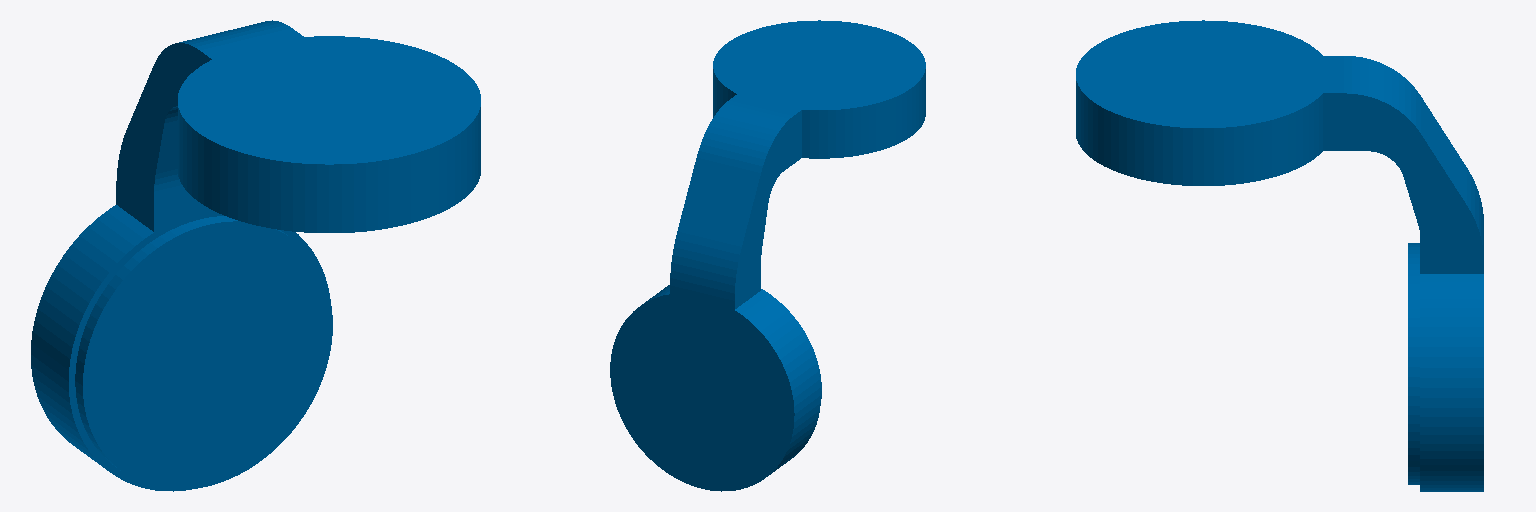
URDF robot description (FAST_ASSEMBLY):
<?xml version='1.0' encoding='utf-8'?>
<robot name="FAST_ASSEMBLY">
    <link name="GIMBAL_RAPIDO-v15_CAMERA_ASSEMBLY">
        <inertial>
            <origin xyz="-0.01 0.0032756026727633627 1.8077881414058085e-11" rpy="0.0 0.0 0.0" />
            <mass value="0.004718154701058241" />
            <inertia ixx="3.0879515170826206e-07" iyy="7.336772213625277e-07" izz="8.37855837638672e-07" ixy="9.559887501325002e-23" iyz="-6.161995284685584e-16" ixz="-9.414691255548289e-23" />
        </inertial>
        <visual name="GIMBAL_RAPIDO-v15_CAMERA_ASSEMBLY_visual">
            <origin xyz="0.0 0.0 0.0" rpy="0.0 0.0 0.0" />
            <geometry>
                <mesh filename="meshes/GIMBAL_RAPIDO-v15_CAMERA_ASSEMBLY.stl" scale="0.001 0.001 0.001" />
            </geometry>
        </visual>
        <collision name="GIMBAL_RAPIDO-v15_CAMERA_ASSEMBLY_collision">
            <origin xyz="0.0 0.0 0.0" rpy="0.0 0.0 0.0" />
            <geometry>
                <mesh filename="meshes/GIMBAL_RAPIDO-v15_CAMERA_ASSEMBLY.stl" scale="0.001 0.001 0.001" />
            </geometry>
        </collision>
    </link>
    <link name="GIMBAL_RAPIDO-v15_PITCH_MOTOR">
        <inertial>
            <origin xyz="-0.009999999990825306 0.010568880302318675 1.6857777396239728e-11" rpy="0.0 0.0 0.0" />
            <mass value="0.007638596904392609" />
            <inertia ixx="1.2557409997488117e-06" iyy="2.048053521892667e-06" izz="2.9916259244081893e-06" ixy="-1.8765547722116055e-16" iyz="-1.5485998442789362e-15" ixz="5.026193091076733e-17" />
        </inertial>
        <visual name="GIMBAL_RAPIDO-v15_PITCH_MOTOR_visual">
            <origin xyz="0.0 0.0 0.0" rpy="0.0 0.0 0.0" />
            <geometry>
                <mesh filename="meshes/GIMBAL_RAPIDO-v15_PITCH_MOTOR.stl" scale="0.001 0.001 0.001" />
            </geometry>
        </visual>
        <collision name="GIMBAL_RAPIDO-v15_PITCH_MOTOR_collision">
            <origin xyz="0.0 0.0 0.0" rpy="0.0 0.0 0.0" />
            <geometry>
                <mesh filename="meshes/GIMBAL_RAPIDO-v15_PITCH_MOTOR.stl" scale="0.001 0.001 0.001" />
            </geometry>
        </collision>
    </link>
    <link name="GIMBAL_RAPIDO-v15_YAW_MOTOR">
        <inertial>
            <origin xyz="-0.010000000000000002 0.011999999999999993 0.028041296060991112" rpy="0.0 0.0 0.0" />
            <mass value="0.001965584567608258" />
            <inertia ixx="5.419222061348012e-08" iyy="5.4192220613481986e-08" izz="9.68140936320338e-08" ixy="-3.8828493331415954e-23" iyz="4.235164736271502e-22" ixz="-8.819066777543582e-23" />
        </inertial>
        <visual name="GIMBAL_RAPIDO-v15_YAW_MOTOR_visual">
            <origin xyz="0.0 0.0 0.0" rpy="0.0 0.0 0.0" />
            <geometry>
                <mesh filename="meshes/GIMBAL_RAPIDO-v15_YAW_MOTOR.stl" scale="0.001 0.001 0.001" />
            </geometry>
        </visual>
        <collision name="GIMBAL_RAPIDO-v15_YAW_MOTOR_collision">
            <origin xyz="0.0 0.0 0.0" rpy="0.0 0.0 0.0" />
            <geometry>
                <mesh filename="meshes/GIMBAL_RAPIDO-v15_YAW_MOTOR.stl" scale="0.001 0.001 0.001" />
            </geometry>
        </collision>
    </link>
    <link name="GIMBAL_RAPIDO-v15_CAMERA">
        <inertial>
            <origin xyz="-0.00999999999988678 -0.0011254136057887352 -4.440892098500626e-18" rpy="0.0 0.0 0.0" />
            <mass value="0.006869216157004747" />
            <inertia ixx="3.9437228490212125e-07" iyy="3.840762745352083e-07" izz="3.9437228879629085e-07" ixy="6.76730574888037e-18" iyz="-1.1529671502421527e-38" ixz="9.414691248488082e-23" />
        </inertial>
        <visual name="GIMBAL_RAPIDO-v15_CAMERA_visual">
            <origin xyz="0.0 0.0 0.0" rpy="0.0 0.0 0.0" />
            <geometry>
                <mesh filename="meshes/GIMBAL_RAPIDO-v15_CAMERA.stl" scale="0.001 0.001 0.001" />
            </geometry>
        </visual>
        <collision name="GIMBAL_RAPIDO-v15_CAMERA_collision">
            <origin xyz="0.0 0.0 0.0" rpy="0.0 0.0 0.0" />
            <geometry>
                <mesh filename="meshes/GIMBAL_RAPIDO-v15_CAMERA.stl" scale="0.001 0.001 0.001" />
            </geometry>
        </collision>
    </link>
    <link name="GIMBAL_RAPIDO-v15_ROLL_MOTOR">
        <inertial>
            <origin xyz="-0.010000000000071346 0.023096726580276183 0.011293638910718804" rpy="0.0 0.0 0.0" />
            <mass value="0.004184733711997446" />
            <inertia ixx="9.423565304118208e-07" iyy="6.376214264668031e-07" izz="4.894283102382267e-07" ixy="1.6130476193766658e-18" iyz="3.7184911209001784e-07" ixz="-3.371966627019227e-18" />
        </inertial>
        <visual name="GIMBAL_RAPIDO-v15_ROLL_MOTOR_visual">
            <origin xyz="0.0 0.0 0.0" rpy="0.0 0.0 0.0" />
            <geometry>
                <mesh filename="meshes/GIMBAL_RAPIDO-v15_ROLL_MOTOR.stl" scale="0.001 0.001 0.001" />
            </geometry>
        </visual>
        <collision name="GIMBAL_RAPIDO-v15_ROLL_MOTOR_collision">
            <origin xyz="0.0 0.0 0.0" rpy="0.0 0.0 0.0" />
            <geometry>
                <mesh filename="meshes/GIMBAL_RAPIDO-v15_ROLL_MOTOR.stl" scale="0.001 0.001 0.001" />
            </geometry>
        </collision>
    </link>
    <link name="FAST_DESING-v7_Componente1">
        <inertial>
            <origin xyz="2.1661863625288823e-17 0.000901779099596209 0.0013886844844376955" rpy="0.0 0.0 0.0" />
            <mass value="0.890102902091786" />
            <inertia ixx="0.0026930074950412336" iyy="0.0013586036951104019" izz="0.0034856635823616445" ixy="4.644896504861607e-18" iyz="0.0001186562592042062" ixz="1.5692786392447297e-18" />
        </inertial>
        <visual name="FAST_DESING-v7_Componente1_visual">
            <origin xyz="0.0 0.0 0.0" rpy="0.0 0.0 0.0" />
            <geometry>
                <mesh filename="meshes/FAST_DESING-v7_Componente1.stl" scale="0.001 0.001 0.001" />
            </geometry>
        </visual>
        <collision name="FAST_DESING-v7_Componente1_collision">
            <origin xyz="0.0 0.0 0.0" rpy="0.0 0.0 0.0" />
            <geometry>
                <mesh filename="meshes/FAST_DESING-v7_Componente1.stl" scale="0.001 0.001 0.001" />
            </geometry>
        </collision>
    </link>
    <joint name="FAST_DESING-v7_Componente1_Rígida-1" type="fixed">
        <origin xyz="0.0 -0.08066288 0.006999999999999999" rpy="3.141592653589793 -0.0 0.0" />
        <parent link="FAST_DESING-v7_Componente1" />
        <child link="GIMBAL_RAPIDO-v15_YAW_MOTOR" />
    </joint>
    <joint name="GIMBAL_RAPIDO-v15_YAW_MOTOR_Revolución-1" type="revolute">
        <origin xyz="-0.009999999999999992 0.012000002692912607 0.025000000000000005" rpy="3.141592653589793 -0.0 0.0" />
        <parent link="GIMBAL_RAPIDO-v15_YAW_MOTOR" />
        <child link="GIMBAL_RAPIDO-v15_ROLL_MOTOR" />
        <axis xyz="0.0 0.0 1.0" />
        <limit lower="-1.570796" upper="1.570796" effort="1000000" velocity="1000000" />
    </joint>
    <joint name="GIMBAL_RAPIDO-v15_ROLL_MOTOR_Revolución-2" type="revolute">
        <origin xyz="-0.009999999999999992 0.028000002692912612 4.440892098500626e-18" rpy="1.5707963267948966 -0.0 0.0" />
        <parent link="GIMBAL_RAPIDO-v15_ROLL_MOTOR" />
        <child link="GIMBAL_RAPIDO-v15_PITCH_MOTOR" />
        <axis xyz="0.0 0.0 1.0" />
        <limit lower="-0.785398" upper="0.785398" effort="1000000" velocity="1000000" />
    </joint>
    <joint name="GIMBAL_RAPIDO-v15_PITCH_MOTOR_Revolución-3" type="revolute">
        <origin xyz="0.005000000000000009 2.6929126129005e-09 4.440892098500626e-18" rpy="-0.0 -1.5707963267948966 0" />
        <parent link="GIMBAL_RAPIDO-v15_PITCH_MOTOR" />
        <child link="GIMBAL_RAPIDO-v15_CAMERA_ASSEMBLY" />
        <axis xyz="0.0 0.0 1.0" />
        <limit lower="-1.570796" upper="1.570796" effort="1000000" velocity="1000000" />
    </joint>
    <joint name="GIMBAL_RAPIDO-v15_CAMERA_ASSEMBLY_Rígida-4" type="fixed">
        <origin xyz="-0.009999999999999992 0.008000002692912603 -0.005999999999999997" rpy="3.141592653589793 -0.0 0.0" />
        <parent link="GIMBAL_RAPIDO-v15_CAMERA_ASSEMBLY" />
        <child link="GIMBAL_RAPIDO-v15_CAMERA" />
    </joint>
</robot>

--- Render facts (derived) ---
Views: 3 orthographic renders of the robot side by side, from view 1: azimuth 30°, elevation 25°; view 2: azimuth 150°, elevation 25°; view 3: azimuth 270°, elevation 25°.
Robot: FAST_ASSEMBLY — 6 links, 5 joints (3 revolute, 2 fixed); root link FAST_DESING-v7_Componente1; default pose: all joints at 0.
Links seen in each view (by area): view 1: GIMBAL_RAPIDO-v15_ROLL_MOTOR; view 2: GIMBAL_RAPIDO-v15_ROLL_MOTOR; view 3: GIMBAL_RAPIDO-v15_ROLL_MOTOR.
Boxes of the visible links, box(x1,y1,x2,y2) form: GIMBAL_RAPIDO-v15_ROLL_MOTOR: box(31, 20, 480, 491); GIMBAL_RAPIDO-v15_ROLL_MOTOR: box(610, 20, 925, 491); GIMBAL_RAPIDO-v15_ROLL_MOTOR: box(1076, 20, 1483, 491).
Size in the robot's own frame: 0.02 by 0.032 by 0.035 metres.
Meshes: 6 distinct files referenced, 1 mesh visuals loaded (1 binary STL); not drawn: 5 (reference not matched to a file when rendering).